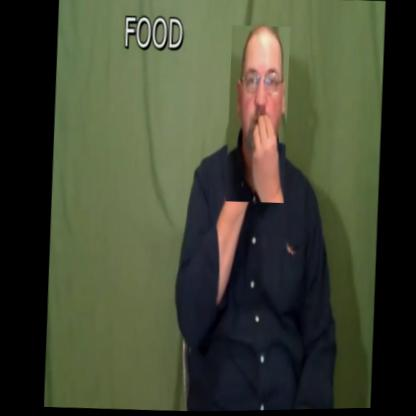Food: (222, 25, 291, 206)
